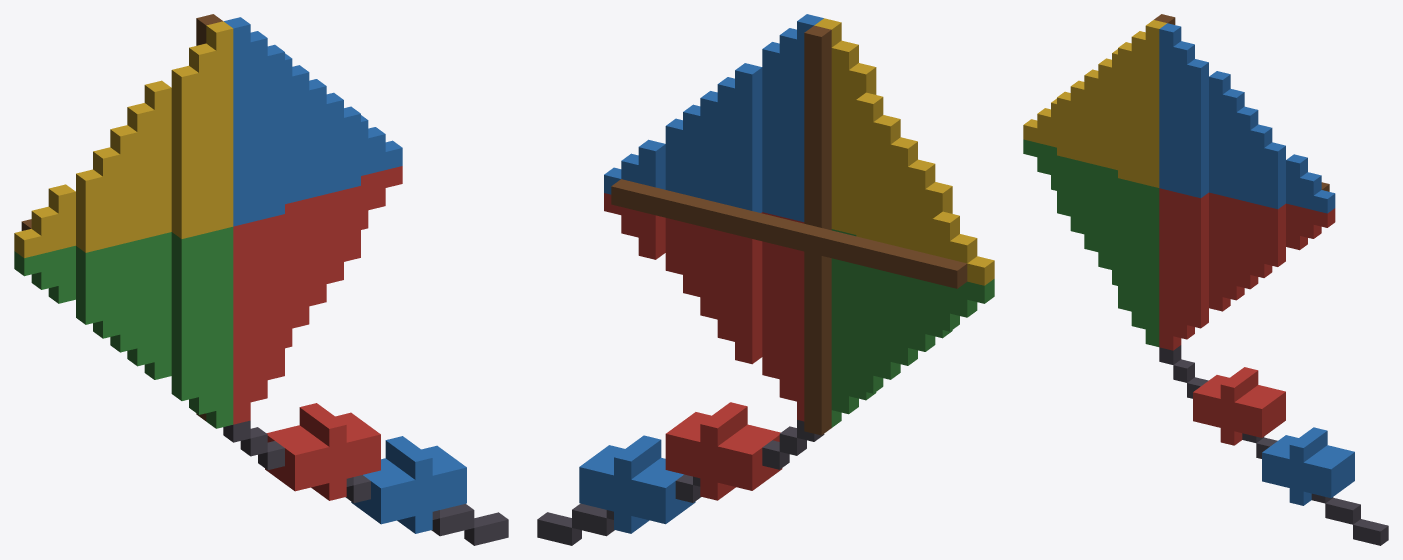
File: kite.glb
3 views of the same model, side by side, from view 1: azimuth 30°, elevation 25°; view 2: azimuth 150°, elevation 25°; view 3: azimuth 330°, elevation 25° (orthographic). The views are drawn at different scales.
Parts seen in each view (by area): view 1: prop; view 2: prop; view 3: prop.
Part boxes in pixels (x1,y1,x2,y2): prop: [14, 14, 508, 545]; prop: [537, 14, 994, 545]; prop: [1023, 14, 1388, 545].
Bounding box in the file's own units: 13.5 × 16 × 2.5.
